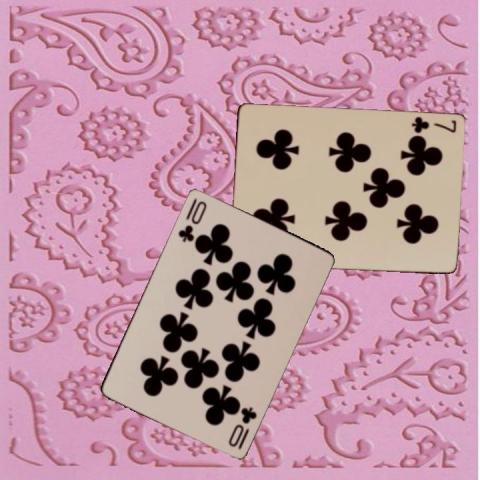10c: (175, 195, 208, 243), (225, 403, 258, 450)
7c: (408, 114, 457, 135)
